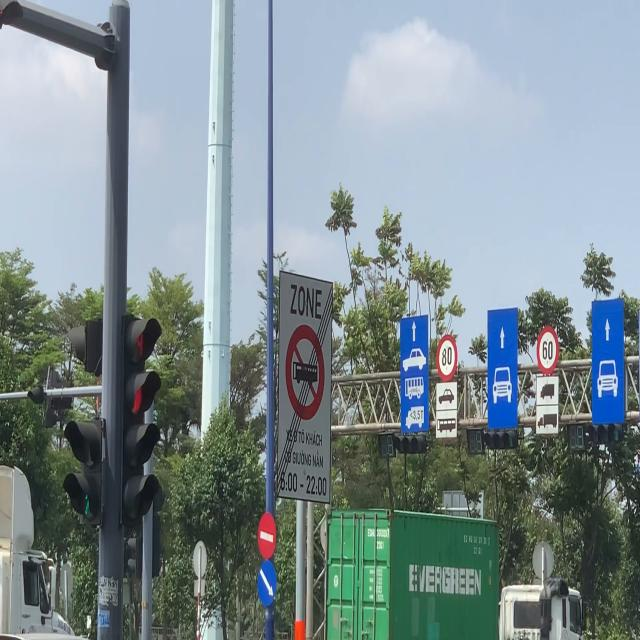Cam con lai: (285, 325, 325, 422)
Cam nguoc chieu: (256, 511, 278, 560)
Hieu lenh: (256, 559, 278, 608)
Toc do toi da: (536, 325, 558, 373), (437, 334, 457, 381)
